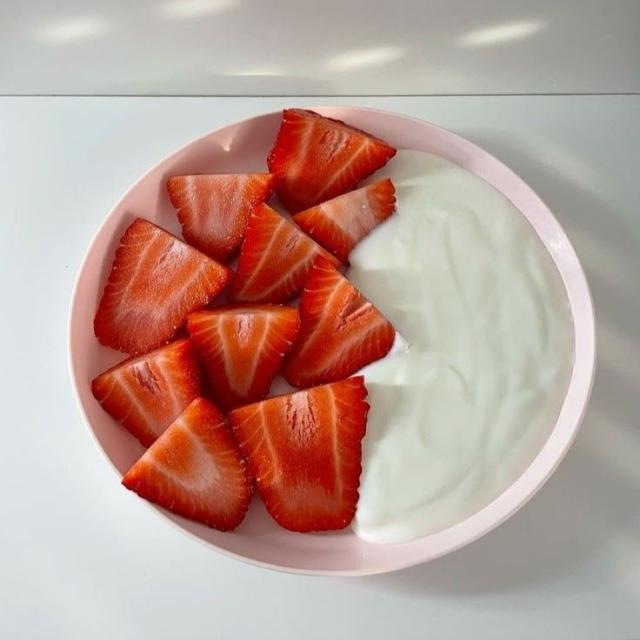strawberry sliced: (229, 377, 368, 531), (94, 219, 232, 353), (123, 398, 250, 530), (284, 257, 394, 387), (267, 109, 396, 212), (187, 305, 299, 409), (92, 339, 200, 446), (229, 204, 339, 303), (167, 174, 274, 261), (294, 179, 395, 261)
